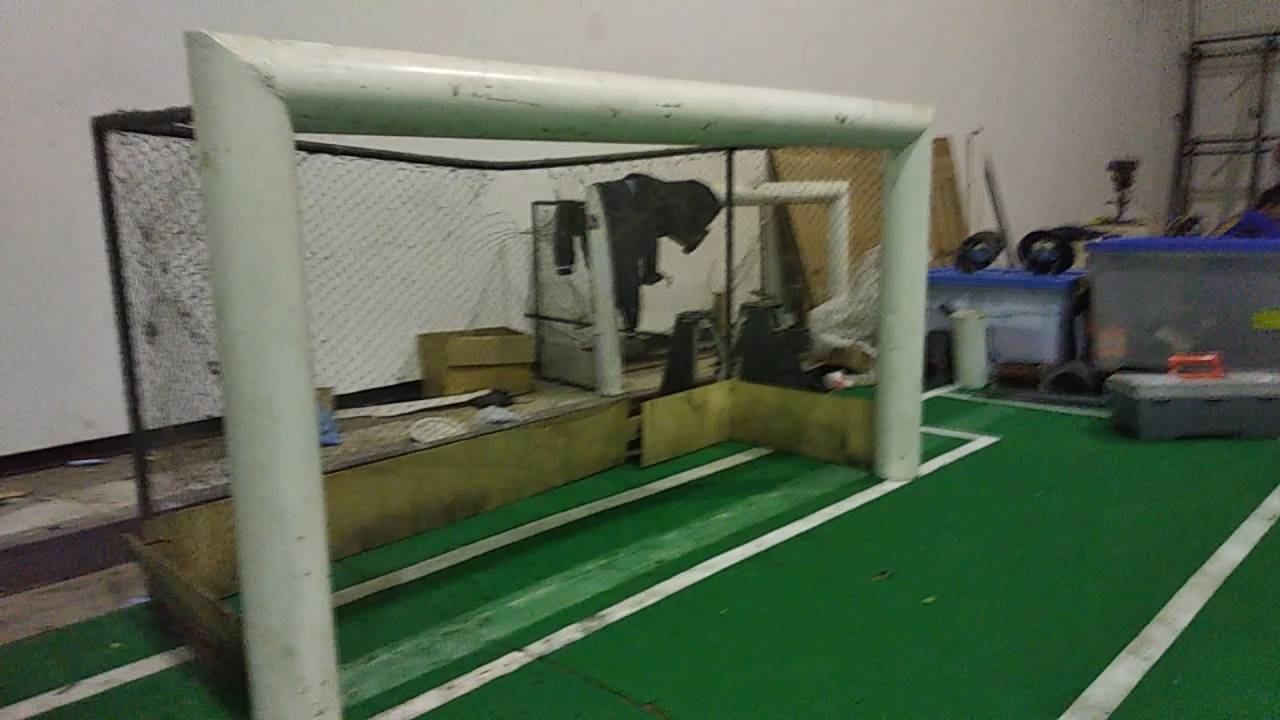gawang: (169, 18, 952, 712)
